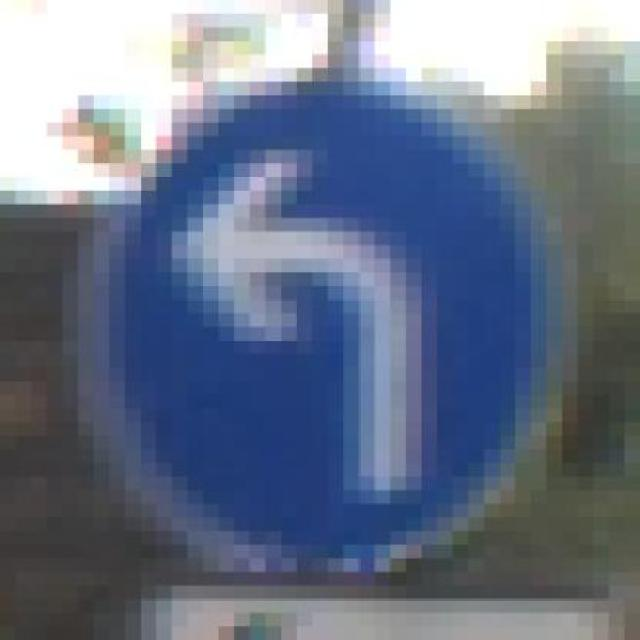Turn left ahead: (78, 82, 578, 600)
